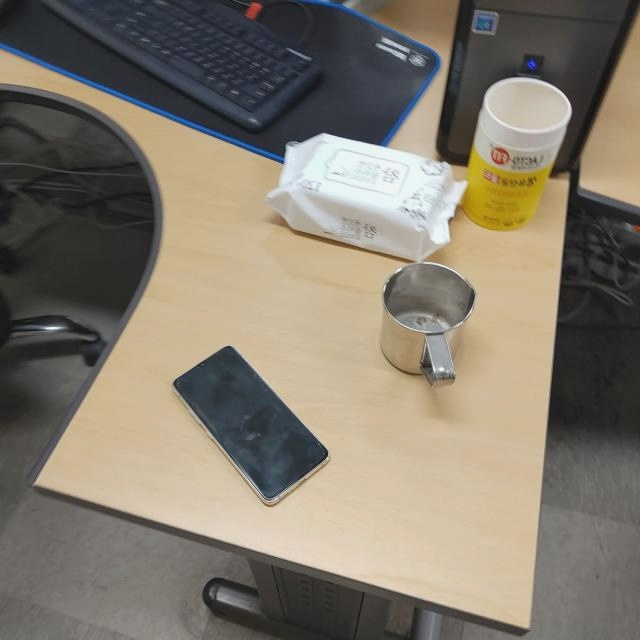cup: (378, 259, 478, 389)
phone: (172, 344, 332, 511)
